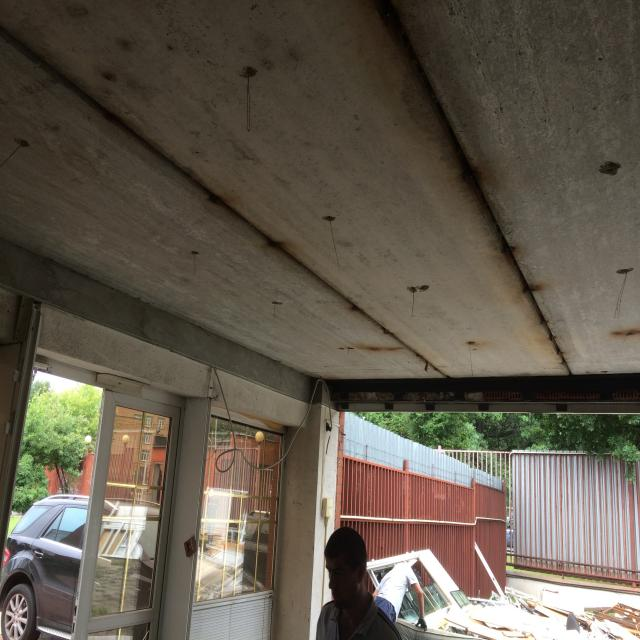NoHelmet: (323, 528, 370, 612)
